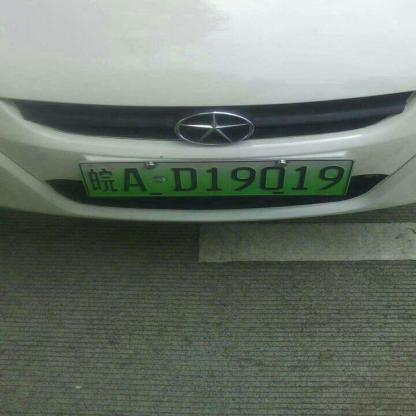lp: (80, 160, 352, 197)
